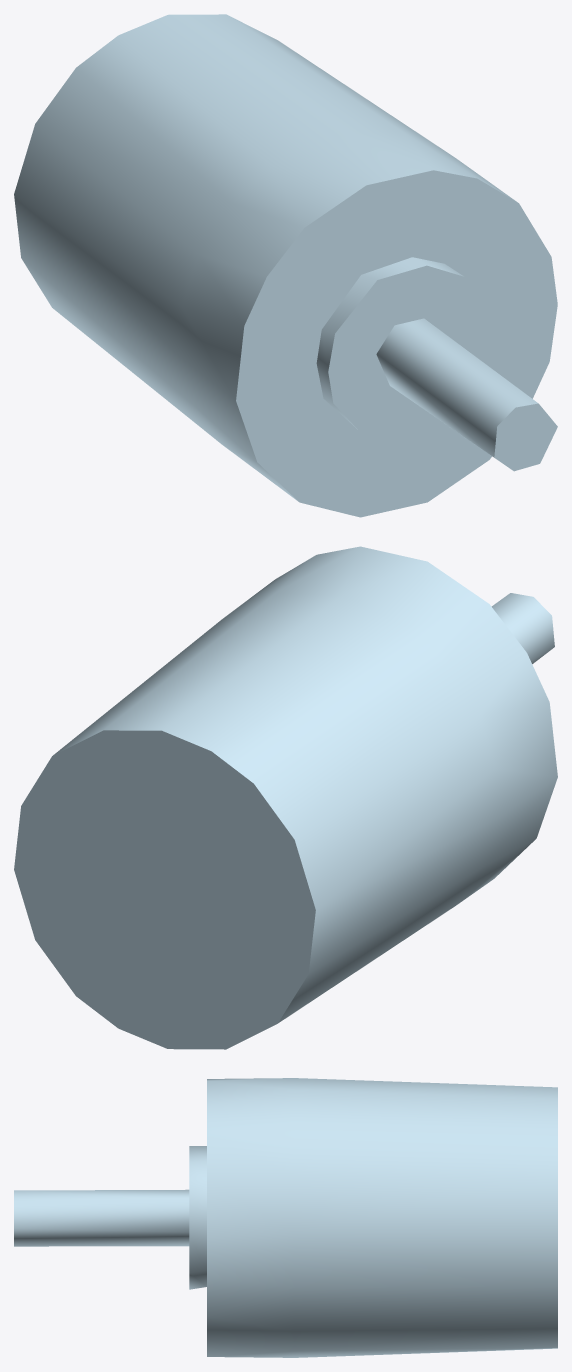
The model's file is Midget.fbx.
3 renders of one model, top to bottom at view 1: azimuth 30°, elevation 25°; view 2: azimuth 150°, elevation 25°; view 3: azimuth 270°, elevation 25°, orthographic. The views are drawn at different scales.
Visible parts, largest first — view 1: Part 1; view 2: Part 1; view 3: Part 1.
Boxes of the visible parts, bbox=[...] form: Part 1: bbox=[14, 14, 557, 517]; Part 1: bbox=[14, 546, 557, 1049]; Part 1: bbox=[14, 1078, 557, 1357].
Size of the model in its own units: 4.07 by 4.05 by 7.87.
